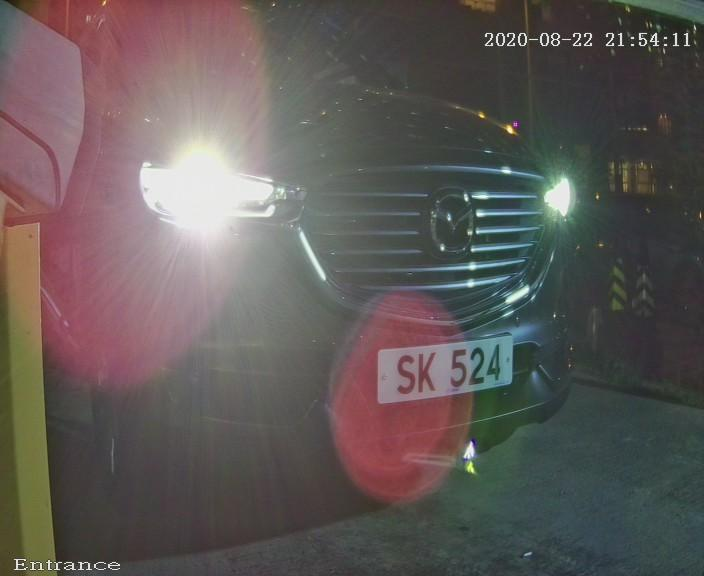Car: (16, 16, 654, 543)
License Plate: (336, 298, 540, 445)
